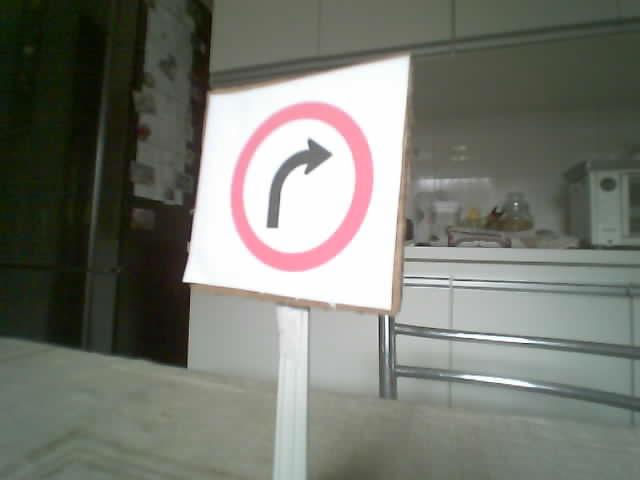R-25b_direita: (229, 98, 375, 272)
